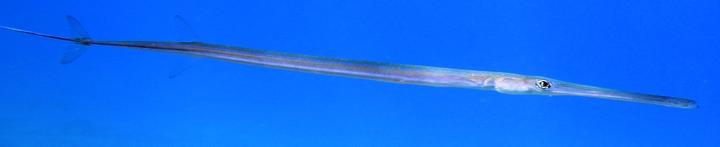Fistularia commersonii: (45, 0, 685, 147)
